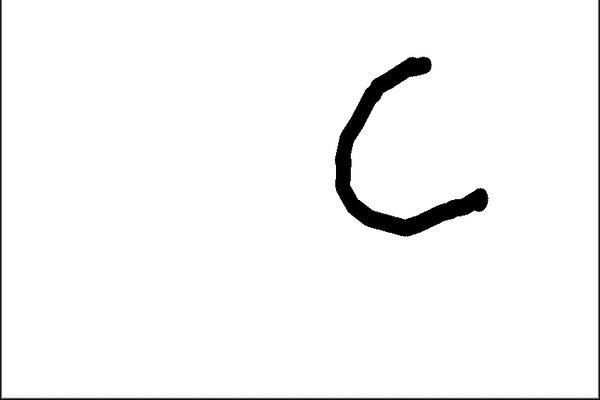C: (330, 51, 491, 239)
